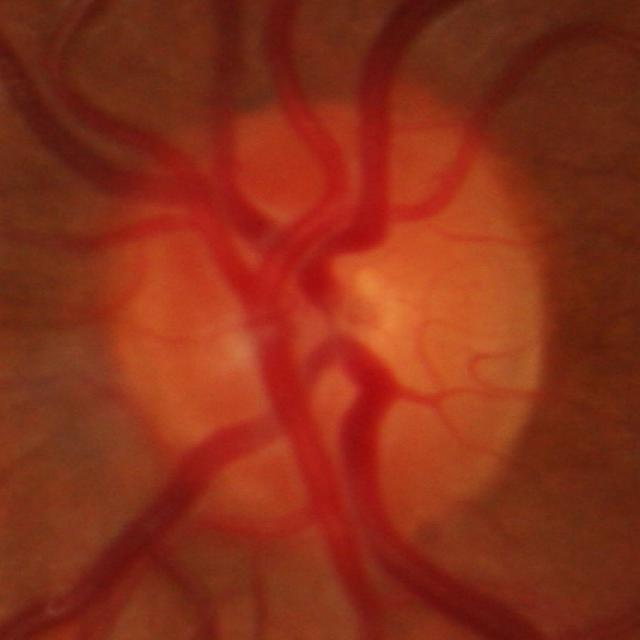OC: (329, 260, 403, 340)
OD: (101, 91, 541, 538)
